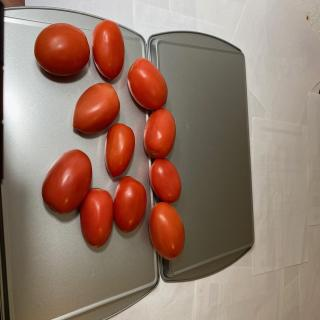Chilli: (34, 18, 185, 260)
Tomato: (42, 149, 92, 215), (34, 22, 90, 76), (72, 83, 120, 134), (127, 57, 168, 110), (148, 202, 185, 260), (80, 188, 113, 248), (92, 20, 125, 80), (113, 176, 147, 233), (104, 123, 135, 177), (143, 108, 176, 158), (148, 158, 182, 203)
